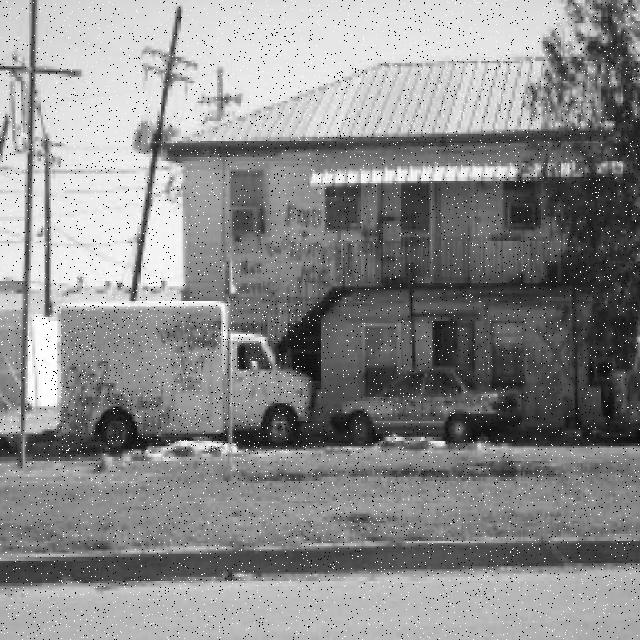Box Truck: (55, 302, 311, 454)
